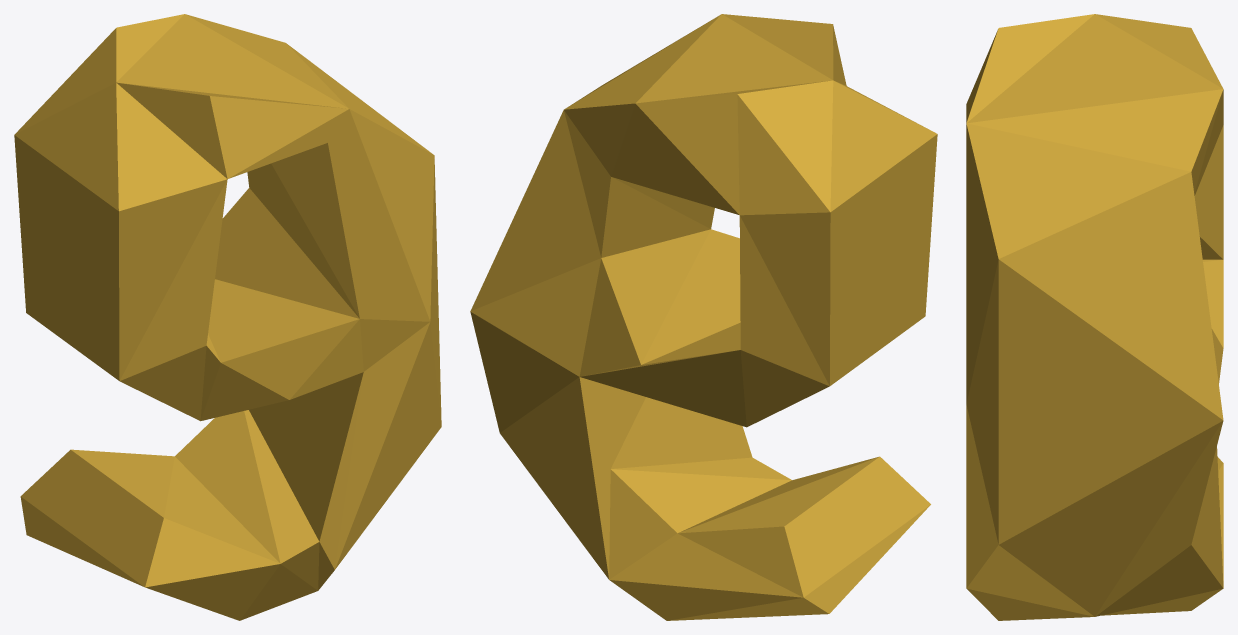
3 renders of one model, left to right at view 1: azimuth 30°, elevation 25°; view 2: azimuth 150°, elevation 25°; view 3: azimuth 270°, elevation 25°, orthographic. The views are drawn at different scales.
Visible parts, largest first — view 1: 9_0057D0_0; view 2: 9_0057D0_0; view 3: 9_0057D0_0.
Boxes of the visible parts, x1,y1,x2,y2 form: 9_0057D0_0: (14,14,441,620); 9_0057D0_0: (470,14,937,620); 9_0057D0_0: (966,14,1223,620).
Bounding box in the file's own units: 47.53 × 70.78 × 30.
